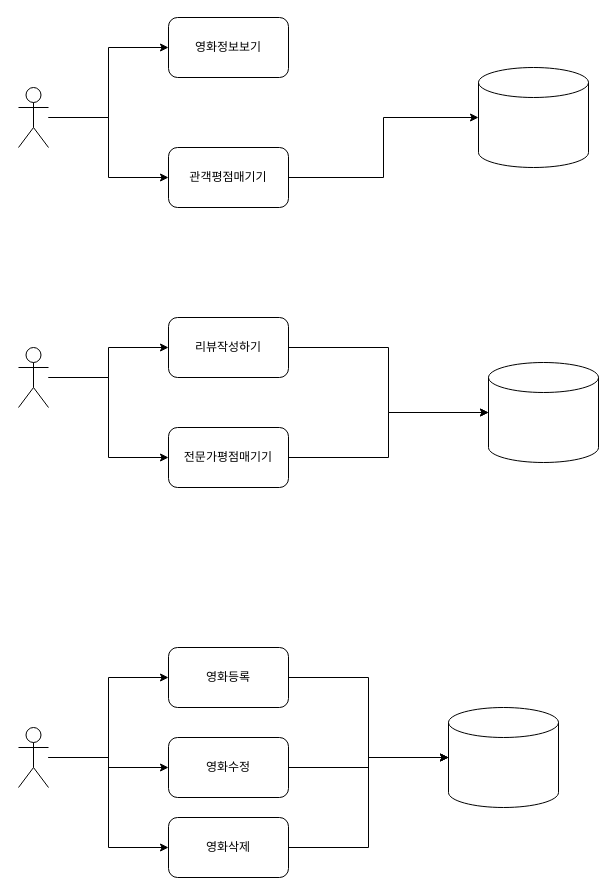
The diagram is 616 pixels wide and 895 high, and some of its shapes have lost their labels. Here are the shapes that lost their labels. From the top down, the centre of each, then its label:
At [33,117]: "관객".
At [33,377]: "전문가".
At [33,757]: "관리자".
